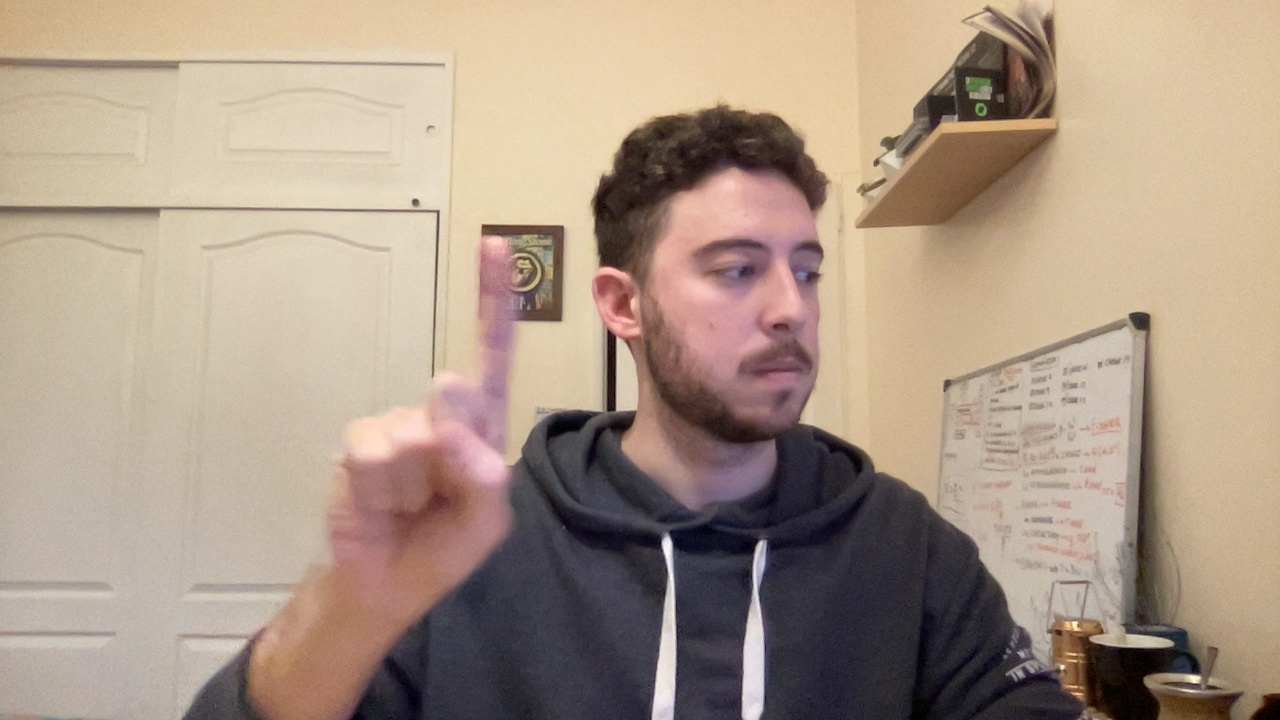indice: (293, 213, 553, 614)
